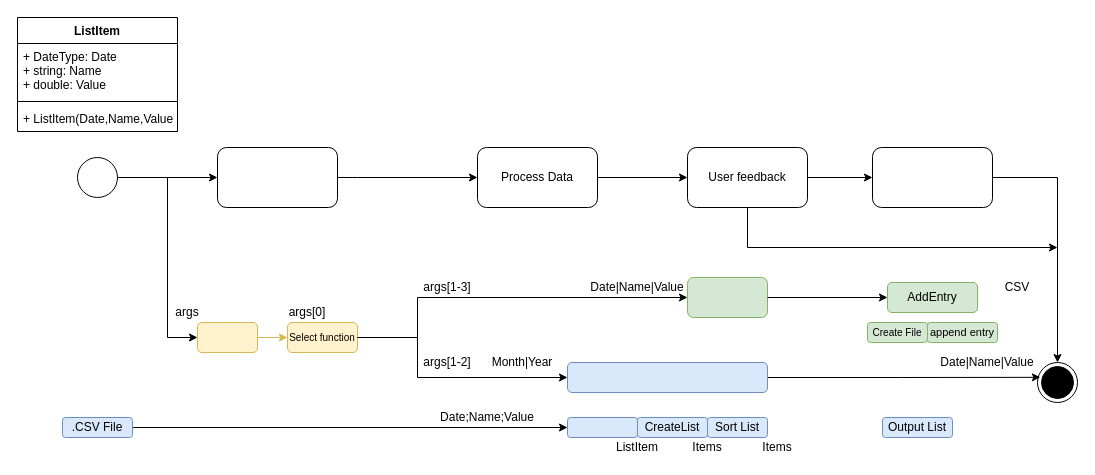
This 1095x475 diagram has some shape labels left out. Each missing label, with the centre of its shape:
"Check leght" goes at pixel 227 337.
"ImportData" goes at pixel 602 427.
"Output" goes at pixel 932 177.
"ParseList" goes at pixel 667 377.
"Prozess Input" goes at pixel 277 177.
"Validate Input" goes at pixel 727 297.
